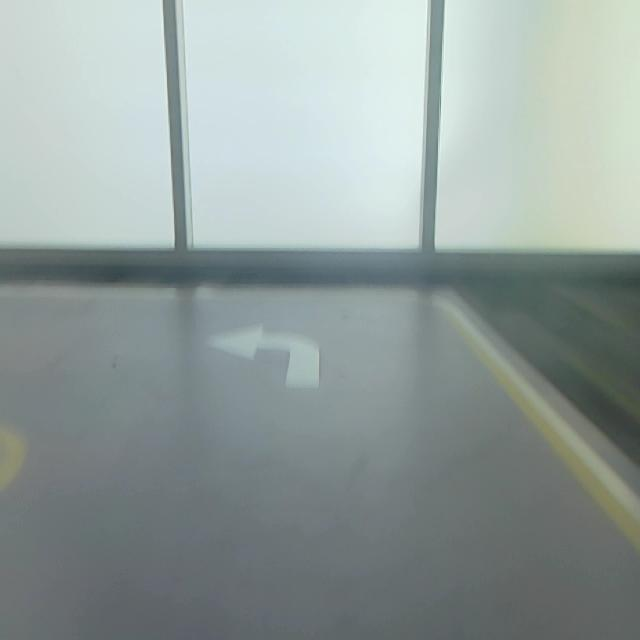left_lane: (0, 427, 31, 489)
right_lane: (441, 306, 640, 551)
